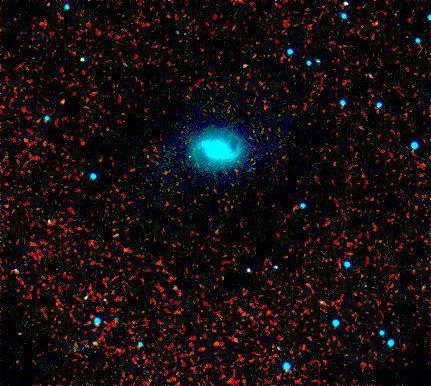star: (44, 90, 74, 120)
